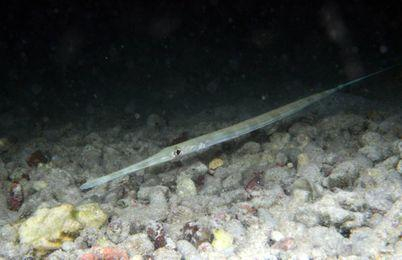Fistularia commersonii: (12, 32, 388, 216)
